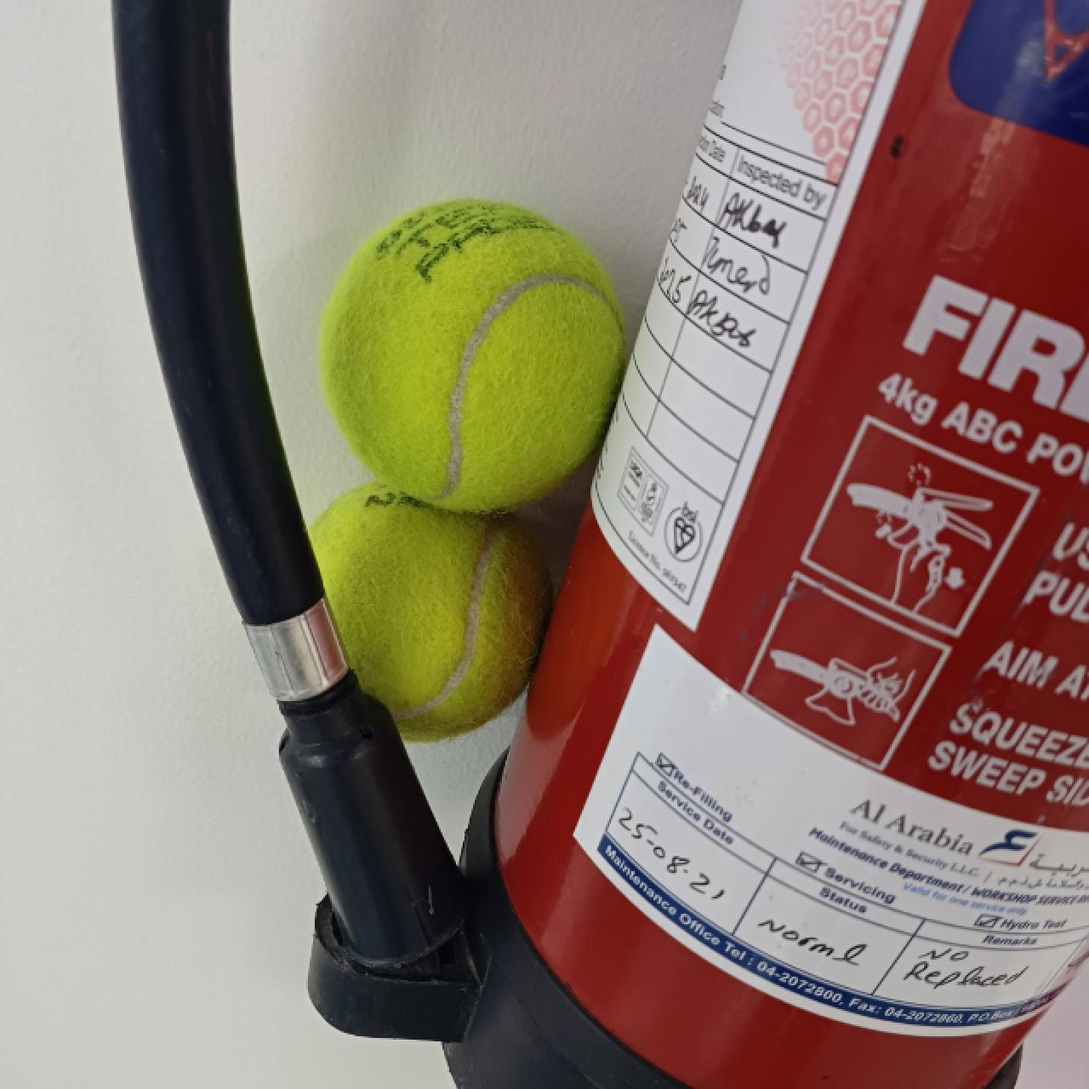tennis-ball: (317, 193, 628, 510), (286, 479, 554, 742)
